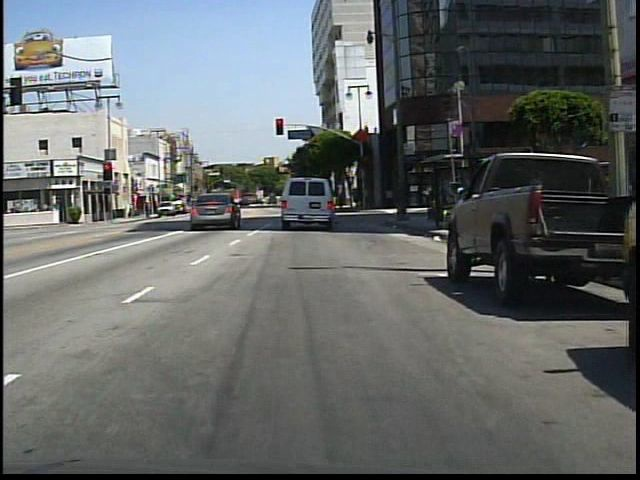person: (317, 182, 339, 224), (215, 193, 229, 218)
